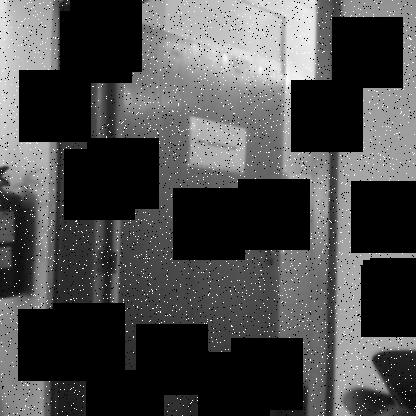Porte: (44, 0, 343, 415)
